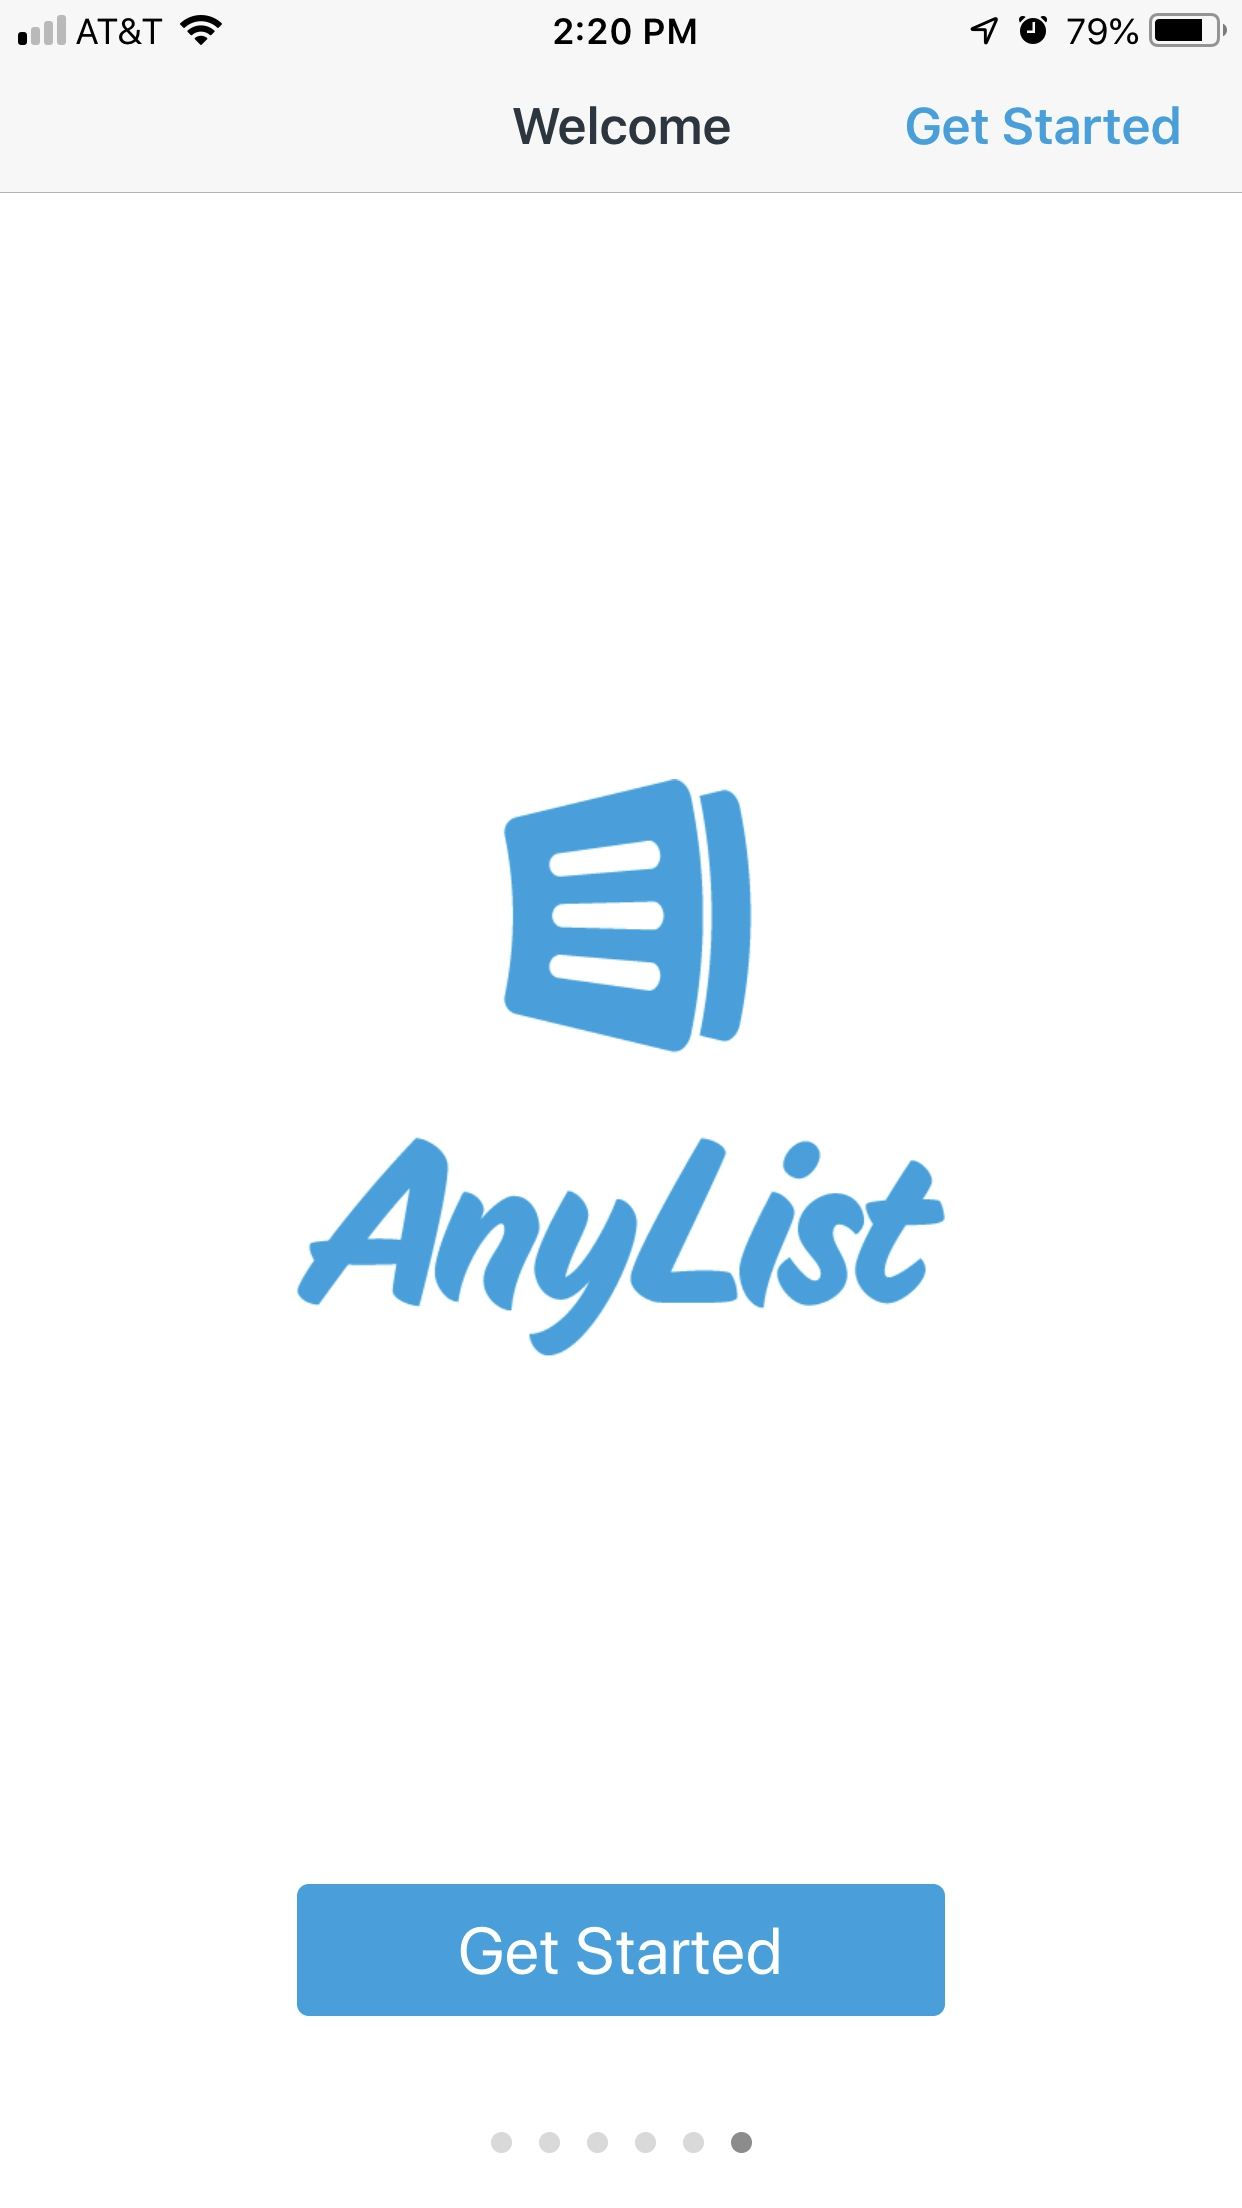Image: (296, 1136, 946, 1357), (503, 778, 754, 1054)
PageIndicator: (490, 2131, 754, 2153)
Text: (907, 106, 1180, 147), (513, 106, 731, 146)
TextButton: (297, 1883, 946, 2017)
UpperTaskBar: (2, 2, 1242, 49)
